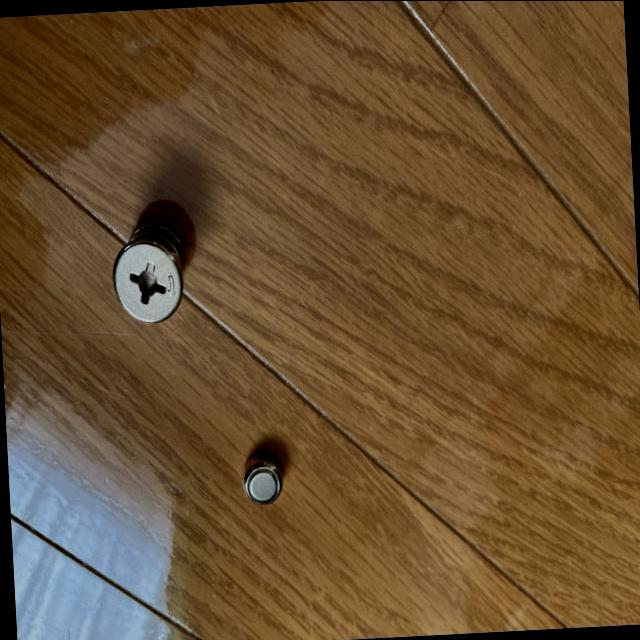COIN: (239, 448, 284, 506)
